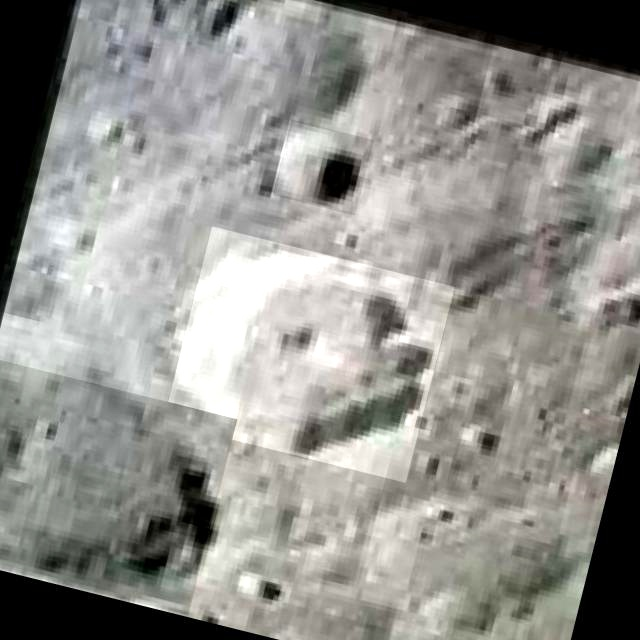crater: (162, 226, 454, 482), (0, 355, 236, 615), (272, 119, 373, 215)
